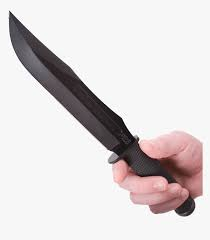knife: (7, 7, 198, 217)
